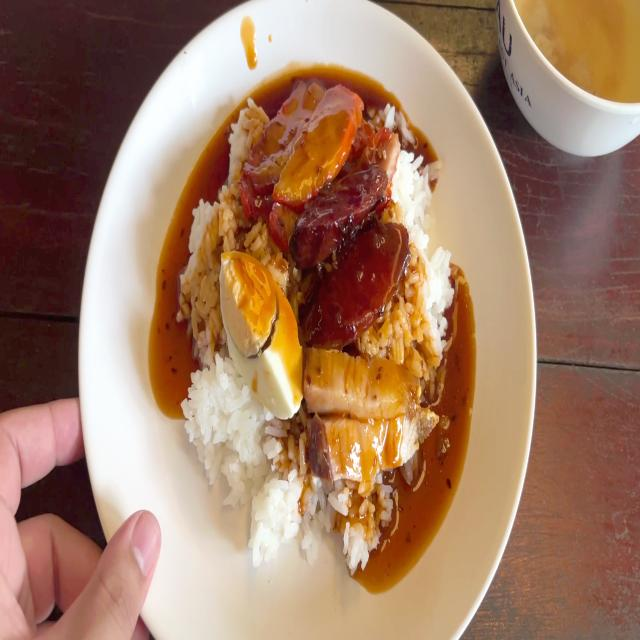boiled_egg: (222, 248, 300, 416)
chainese_sausage: (301, 154, 410, 340), (307, 222, 410, 334), (299, 166, 389, 262)
crispy_pork: (306, 346, 434, 475), (308, 408, 446, 477), (304, 347, 430, 412)
red_pork: (248, 63, 363, 212), (250, 72, 321, 186), (286, 96, 362, 201)
red_pork_and_crispy_pork: (178, 83, 456, 565)
rice: (184, 105, 264, 330), (397, 128, 455, 346), (186, 337, 255, 499), (255, 458, 326, 558), (337, 480, 415, 557)
